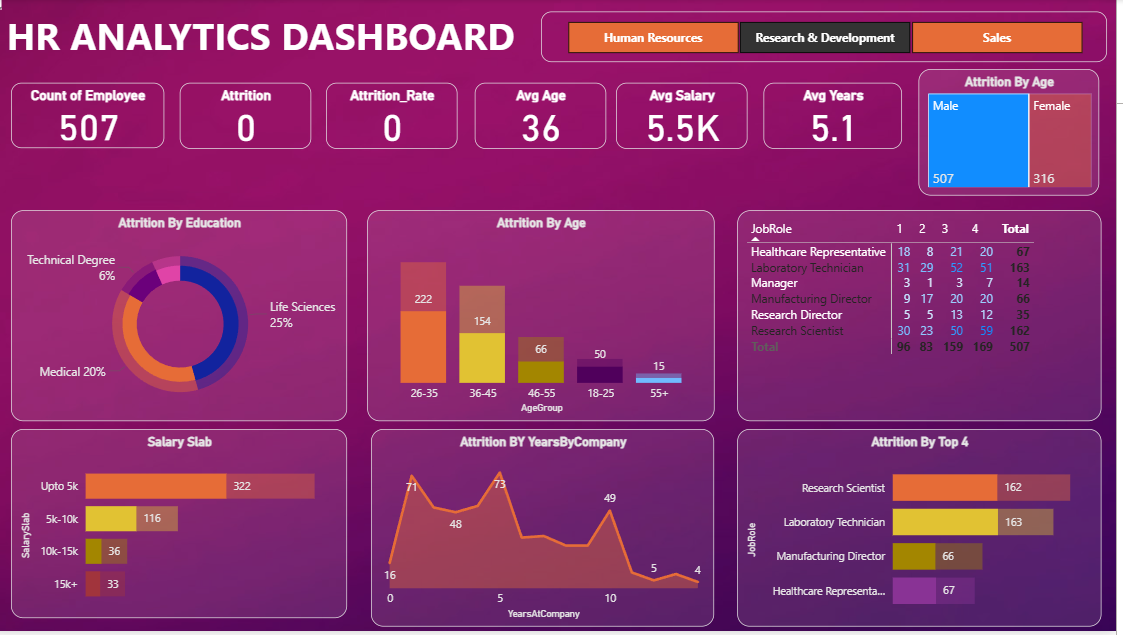

What the dashboard file says about the page in this screenshot:
{"tool":"powerbi","page":{"name":"Page 1","canvas":[1280,720],"ordinal":0},"visuals":[{"type":"barChart","box":[0,0,12.3,12.3],"z":0},{"type":"card","title":"Count of Employee","fields":{"Values":["CountNonNull(HR_Analytics.EmpID)"]},"box":[23.3,94.6,174.1,74],"z":1000},{"type":"card","title":"Attrition","fields":{"Values":["Min(HR_Analytics.AttritionCount)"]},"box":[215.3,94.6,149.4,75.4],"z":2000},{"type":"card","title":"Attrition_Rate","fields":{"Values":["Min(HR_Analytics.AttritionCount)"]},"box":[381.2,96,149.4,75.4],"z":3000},{"type":"card","title":"Avg Age","fields":{"Values":["Avg(HR_Analytics.Age)"]},"box":[549.8,94.6,149.4,75.4],"z":4000},{"type":"card","title":"Avg Salary","fields":{"Values":["Avg(HR_Analytics.MonthlyIncome)"]},"box":[711.6,94.6,149.4,75.4],"z":5000},{"type":"card","title":"Avg Years","fields":{"Values":["Avg(HR_Analytics.YearsAtCompany)"]},"box":[878.8,94.6,157.7,75.4],"z":6000},{"type":"donutChart","title":"Attrition By Education","fields":{"Category":["HR_Analytics.EducationField"],"Y":["CountNonNull(HR_Analytics.AttritionCount)"]},"box":[23.3,239.9,382.5,239.9],"z":7000},{"type":"clusteredColumnChart","title":"Attrition By Age","fields":{"Category":["HR_Analytics.AgeGroup"],"Y":["CountNonNull(HR_Analytics.AttritionCount)"]},"box":[427.8,239.9,394.9,239.9],"z":8000},{"type":"pivotTable","fields":{"Rows":["HR_Analytics.JobRole"],"Columns":["HR_Analytics.JobSatisfaction"],"Values":["CountNonNull(HR_Analytics.AttritionCount)"]},"box":[848.7,239.9,414.1,239.9],"z":9000},{"type":"clusteredBarChart","title":"Salary Slab","fields":{"Category":["HR_Analytics.SalarySlab"],"Y":["CountNonNull(HR_Analytics.AttritionCount)"]},"box":[23.3,489.5,382.5,215.3],"z":10000},{"type":"clusteredBarChart","title":"Attrition By Top 4","fields":{"Y":["CountNonNull(HR_Analytics.AttritionCount)"],"Category":["HR_Analytics.JobRole"]},"box":[848.7,489.5,414.1,224.9],"z":11000},{"type":"areaChart","title":"Attrition BY YearsByCompany","fields":{"Category":["HR_Analytics.YearsAtCompany"],"Y":["CountNonNull(HR_Analytics.AttritionCount)"]},"box":[431.9,489.5,390.7,224.9],"z":12000},{"type":"treemap","title":"Attrition By Age","fields":{"Group":["HR_Analytics.Gender"],"Values":["CountNonNull(HR_Analytics.AttritionCount)"]},"box":[1055.7,79.5,205.7,144],"z":13000},{"type":"slicer","fields":{"Values":["HR_Analytics.Department"]},"box":[625.2,13.7,644.4,57.6],"z":14000},{"type":"textbox","box":[12.3,6.9,600.5,71.3],"z":15000}]}

Visuals, with their boxes in screenshot pixels (x1, y1, x2, y2), scaled from the page's 1280x720 canvas onto the 1123x635 screenshot:
barChart: {"left": 0, "top": 0, "right": 11, "bottom": 11}
"Count of Employee" card: {"left": 20, "top": 83, "right": 173, "bottom": 149}
"Attrition" card: {"left": 189, "top": 83, "right": 320, "bottom": 150}
"Attrition_Rate" card: {"left": 334, "top": 85, "right": 466, "bottom": 151}
"Avg Age" card: {"left": 482, "top": 83, "right": 613, "bottom": 150}
"Avg Salary" card: {"left": 624, "top": 83, "right": 755, "bottom": 150}
"Avg Years" card: {"left": 771, "top": 83, "right": 909, "bottom": 150}
"Attrition By Education" donutChart: {"left": 20, "top": 212, "right": 356, "bottom": 423}
"Attrition By Age" clusteredColumnChart: {"left": 375, "top": 212, "right": 722, "bottom": 423}
pivotTable - HR_Analytics.JobRole x HR_Analytics.JobSatisfaction: {"left": 745, "top": 212, "right": 1108, "bottom": 423}
"Salary Slab" clusteredBarChart: {"left": 20, "top": 432, "right": 356, "bottom": 622}
"Attrition By Top 4" clusteredBarChart: {"left": 745, "top": 432, "right": 1108, "bottom": 630}
"Attrition BY YearsByCompany" areaChart: {"left": 379, "top": 432, "right": 722, "bottom": 630}
"Attrition By Age" treemap: {"left": 926, "top": 70, "right": 1107, "bottom": 197}
slicer - HR_Analytics.Department: {"left": 549, "top": 12, "right": 1114, "bottom": 63}
textbox: {"left": 11, "top": 6, "right": 538, "bottom": 69}
